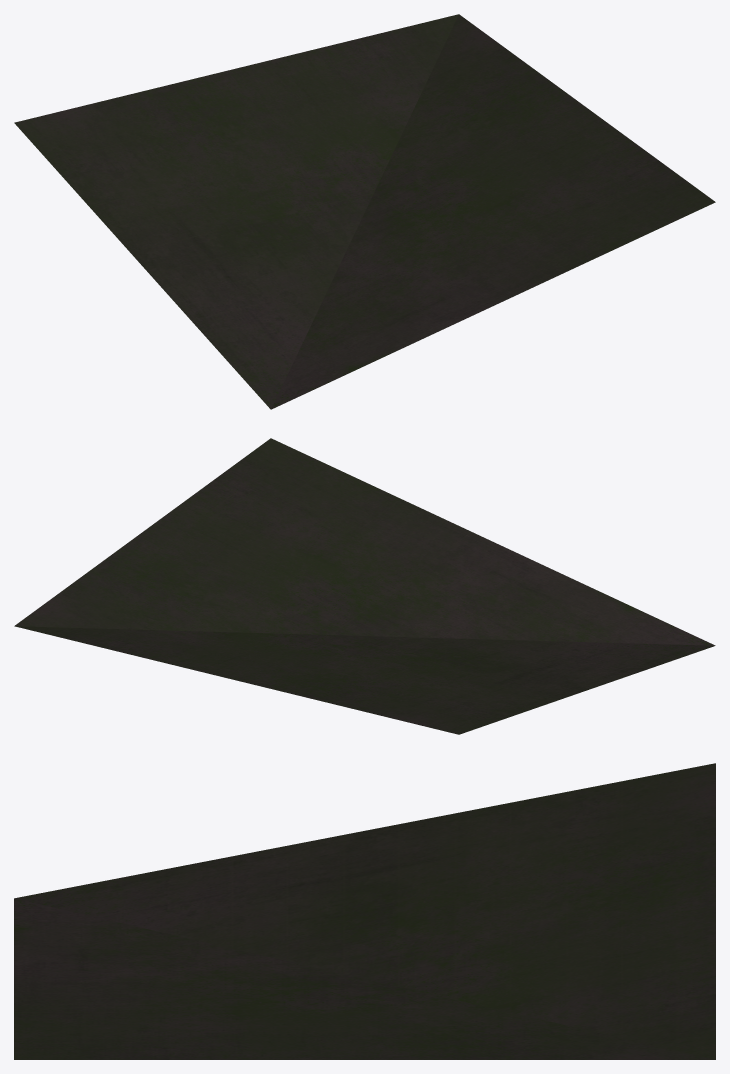
Rendered from shrine_roof_6.fbx.
The picture shows the model from 3 angles, top to bottom: view 1: azimuth 30°, elevation 25°; view 2: azimuth 150°, elevation 25°; view 3: azimuth 270°, elevation 25°; orthographic projection. The views are drawn at different scales.
Visible parts, largest first — view 1: shrine_roof_7; view 2: shrine_roof_7; view 3: shrine_roof_7.
Part boxes in pixels (x1=…): shrine_roof_7: x1=14, y1=14, x2=715, y2=409; shrine_roof_7: x1=14, y1=438, x2=715, y2=734; shrine_roof_7: x1=14, y1=763, x2=715, y2=1059.
Size of the model in its own units: 330 by 70.14 by 330.
1 material, 1 textured.
